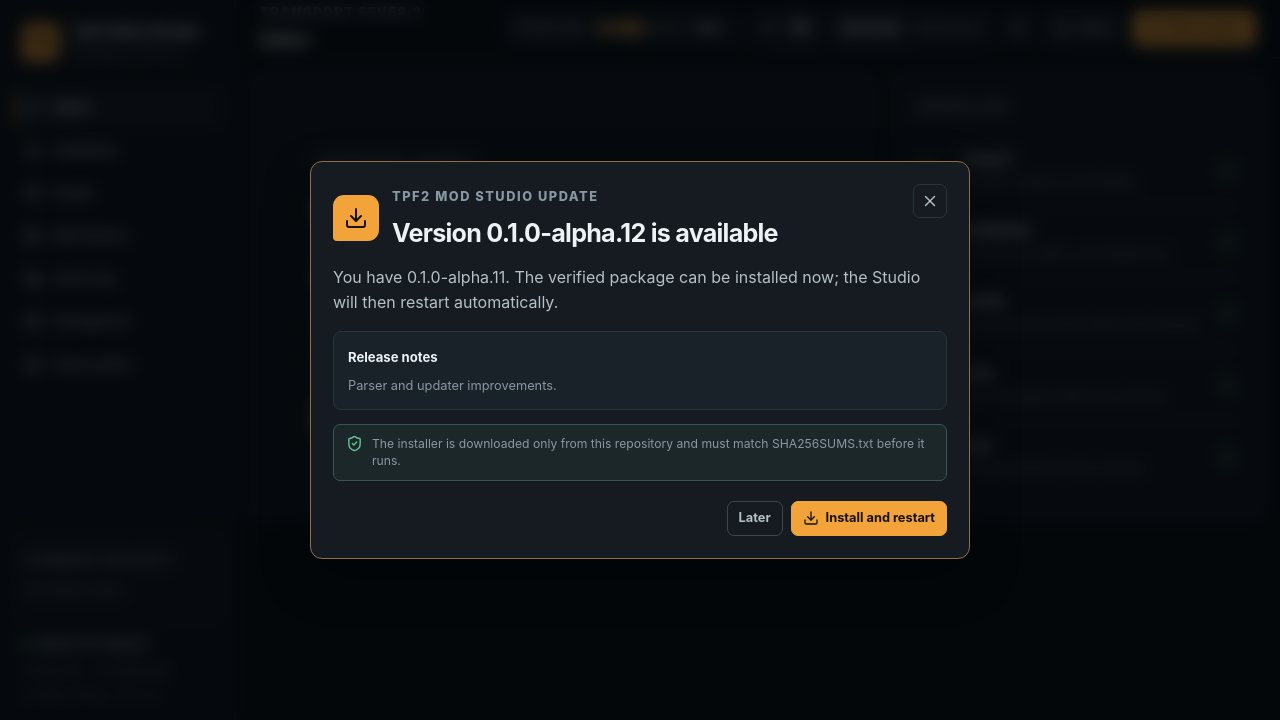
desktop workbench › shows the startup update dialog, installs, and requests a restart
The image size is (1280, 720).
Expected: the dialog is shown, x1=310 y1=162 x2=970 y2=558
Expected: the text "Parser and updater improvements." is shown, x1=348 y1=378 x2=557 y2=393
Click the button "Install and restart" at (869,518), box x1=791 y1=501 x2=947 y2=536
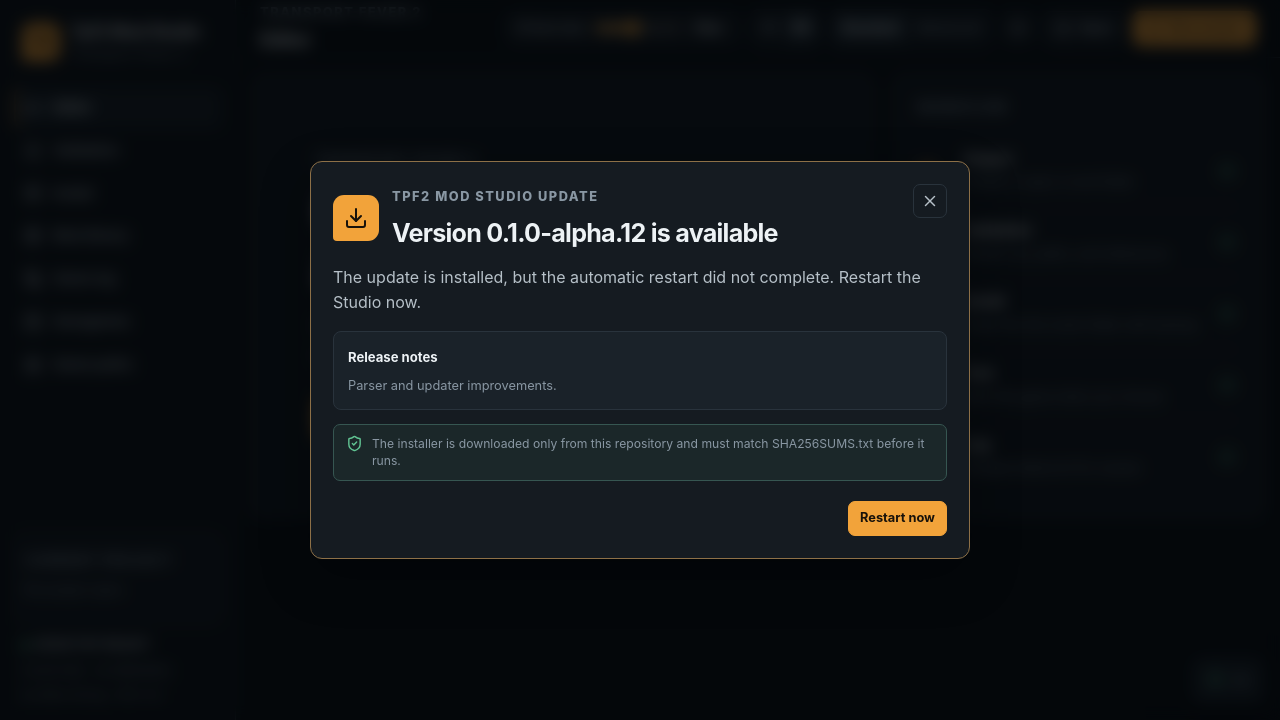
Now the button "Restart now" is shown, box x1=848 y1=501 x2=947 y2=536
